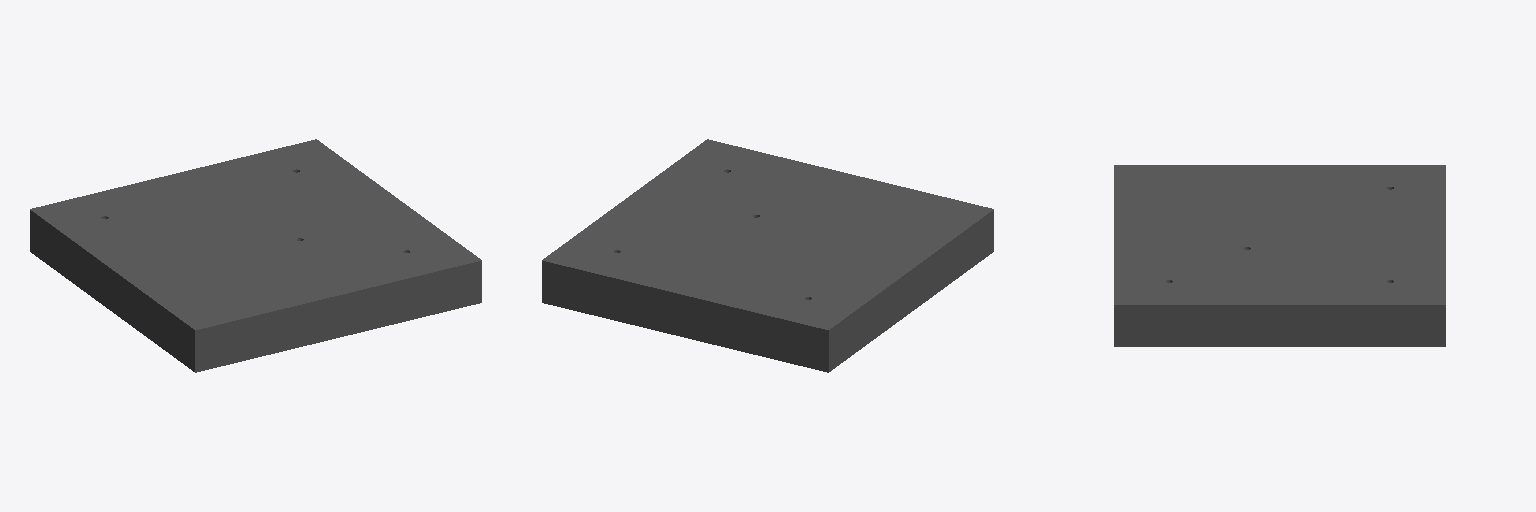
The model's file is rect1.obj.
3 renders of one model, left to right at view 1: azimuth 30°, elevation 25°; view 2: azimuth 150°, elevation 25°; view 3: azimuth 270°, elevation 25°, orthographic.
Visible parts, largest first — view 1: StainlessSteel_rect1; view 2: StainlessSteel_rect1; view 3: StainlessSteel_rect1.
Boxes of the visible parts, x1,y1,x2,y2 form: StainlessSteel_rect1: [30, 139, 481, 372]; StainlessSteel_rect1: [542, 139, 993, 372]; StainlessSteel_rect1: [1114, 165, 1445, 346].
Bounding box in the file's own units: 0.09 × 0.0127 × 0.09.